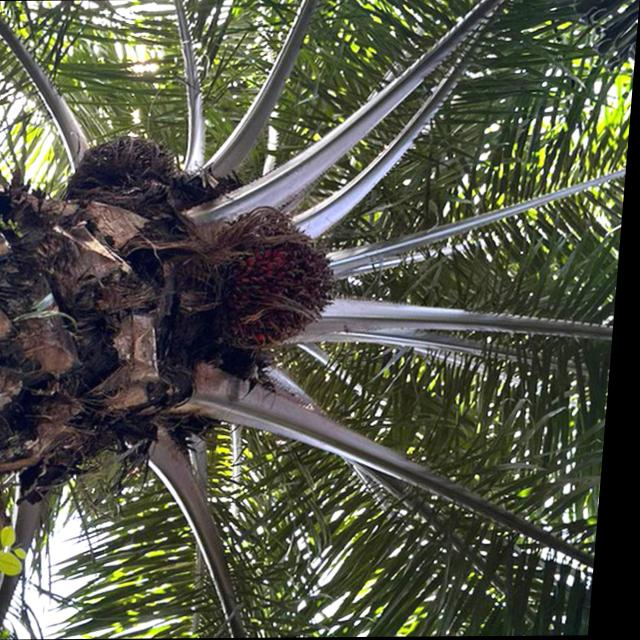ripe: (193, 196, 369, 363)
